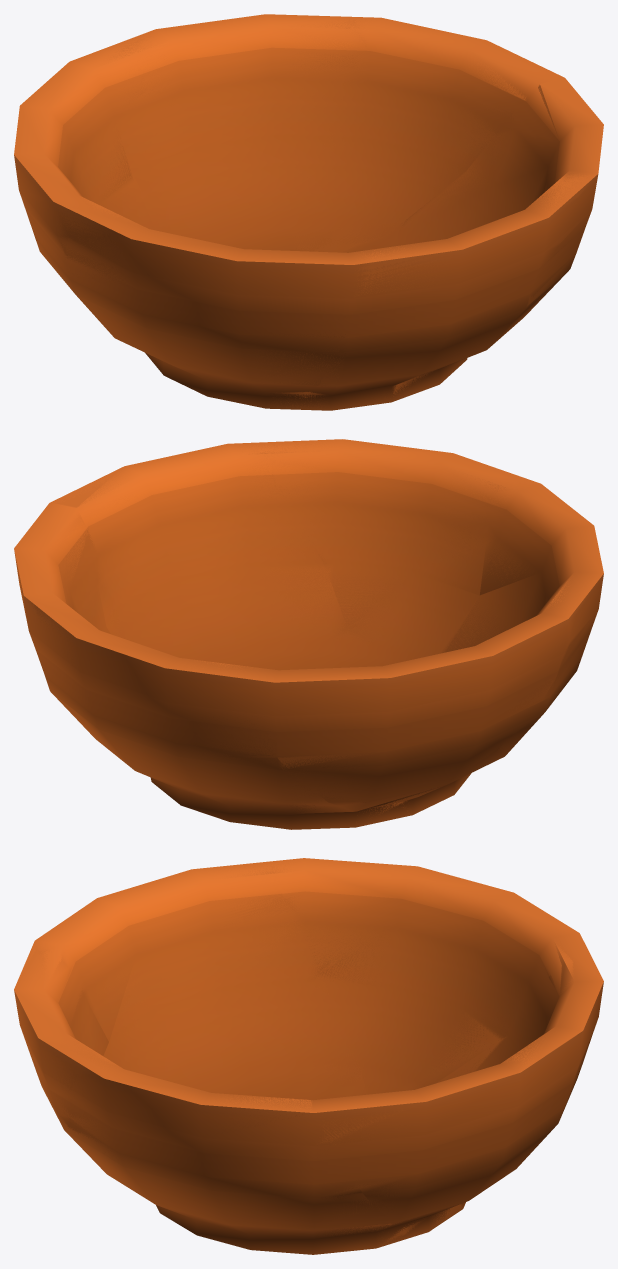
File: Cat_Bowl_Breakable.fbx
3 renders of one model, top to bottom at view 1: azimuth 30°, elevation 25°; view 2: azimuth 150°, elevation 25°; view 3: azimuth 270°, elevation 25°, orthographic.
Parts seen in each view (by area): view 1: Cat_Bowl_Breakable (×2), Cat_Bowl_Breakable4, Cat_Bowl_Breakable1, Cat_Bowl_Breakable3, Cat_Bowl_Breakable2, Cat_Bowl_Breakable5; view 2: Cat_Bowl_Breakable (×2), Cat_Bowl_Breakable5, Cat_Bowl_Breakable3, Cat_Bowl_Breakable1, Cat_Bowl_Breakable2, Cat_Bowl_Breakable4; view 3: Cat_Bowl_Breakable (×2), Cat_Bowl_Breakable3, Cat_Bowl_Breakable2, Cat_Bowl_Breakable5, Cat_Bowl_Breakable4, Cat_Bowl_Breakable1.
Boxes of the visible parts, x1,y1,x2,y2 form: Cat_Bowl_Breakable (×2): (14,14,603,410); Cat_Bowl_Breakable4: (307,17,564,252); Cat_Bowl_Breakable1: (119,14,354,251); Cat_Bowl_Breakable3: (66,205,372,409); Cat_Bowl_Breakable2: (40,47,155,257); Cat_Bowl_Breakable5: (300,181,580,410); Cat_Bowl_Breakable (×2): (14,439,603,829); Cat_Bowl_Breakable5: (264,439,522,664); Cat_Bowl_Breakable3: (401,479,603,816); Cat_Bowl_Breakable1: (36,599,366,826); Cat_Bowl_Breakable2: (220,600,578,824); Cat_Bowl_Breakable4: (25,503,151,779); Cat_Bowl_Breakable (×2): (14,858,603,1254); Cat_Bowl_Breakable3: (34,861,367,1099); Cat_Bowl_Breakable2: (272,858,580,1094); Cat_Bowl_Breakable5: (14,950,108,1128); Cat_Bowl_Breakable4: (310,1057,535,1233); Cat_Bowl_Breakable1: (436,961,603,1211).
Bounding box in the file's own units: 48.25 × 18.44 × 48.25.
1 material, 1 textured.
